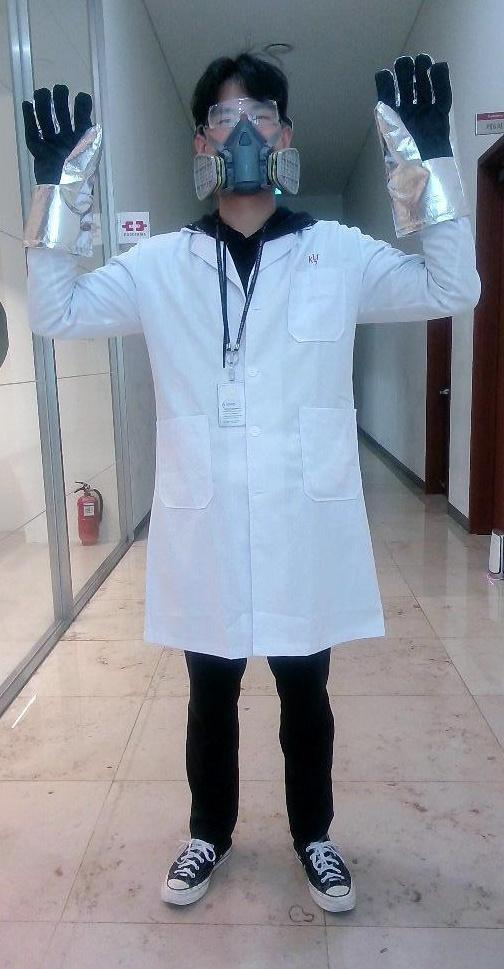lab_coat: (129, 212, 370, 660)
